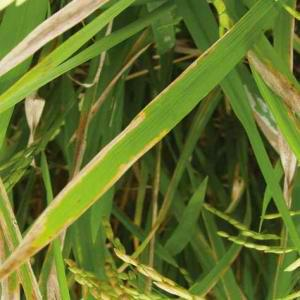2 BacterialBlight: (34, 181, 95, 230), (18, 17, 63, 56)
